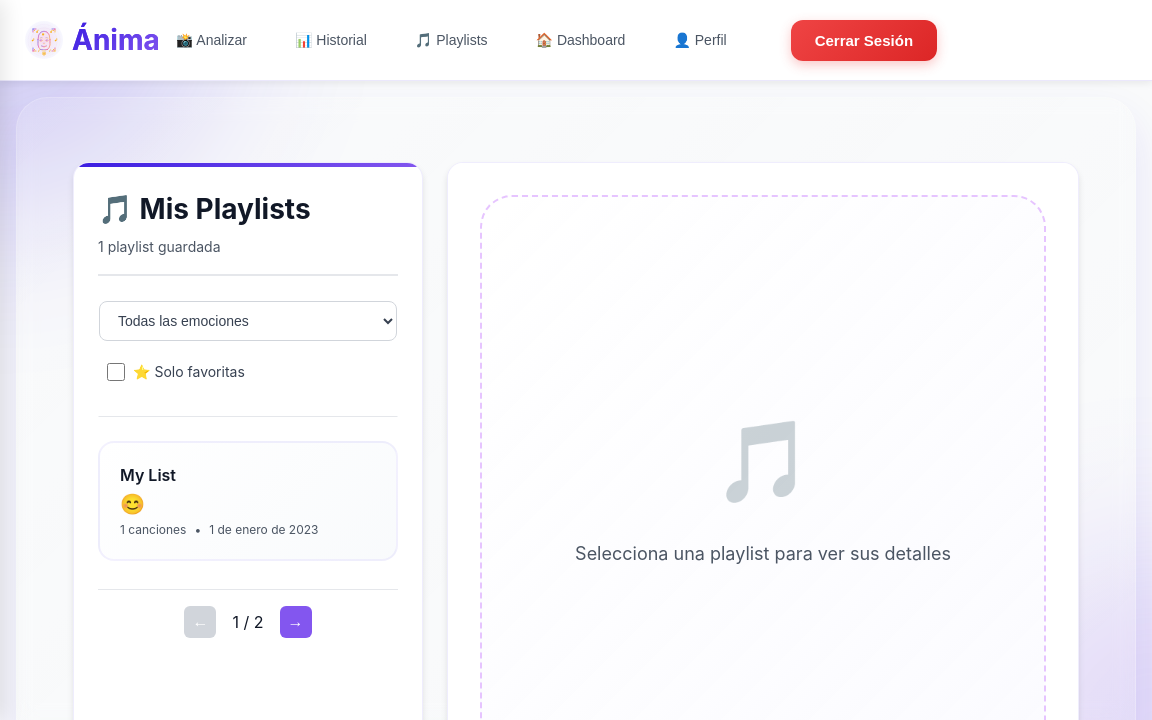
Test: PlaylistsPage › renders playlists list and pagination and shows details on selection
Expected: the text "1 / 2" is shown, [232,610,264,635]
// select playlist
What coordinates should you click on to do the following:
click the heading "My List"
I would click on:
 (148, 475)
Its box is [120,465,176,485].
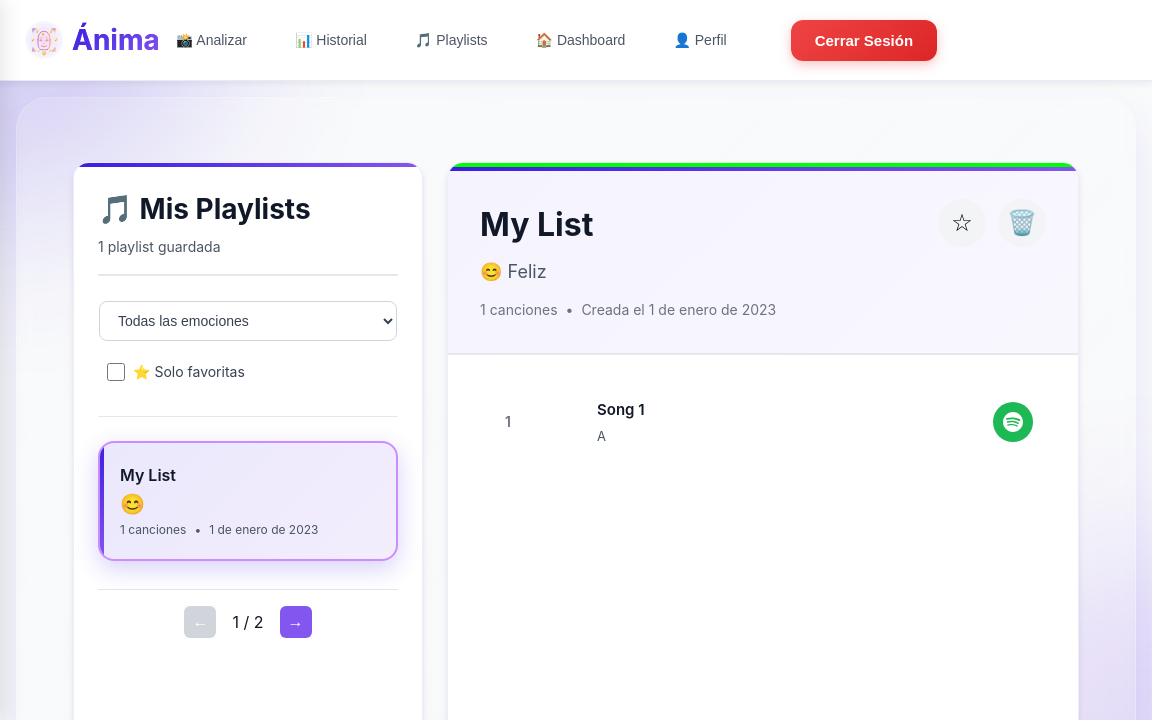
Now the text "Creada el" is shown, box [581,301,649,318]
